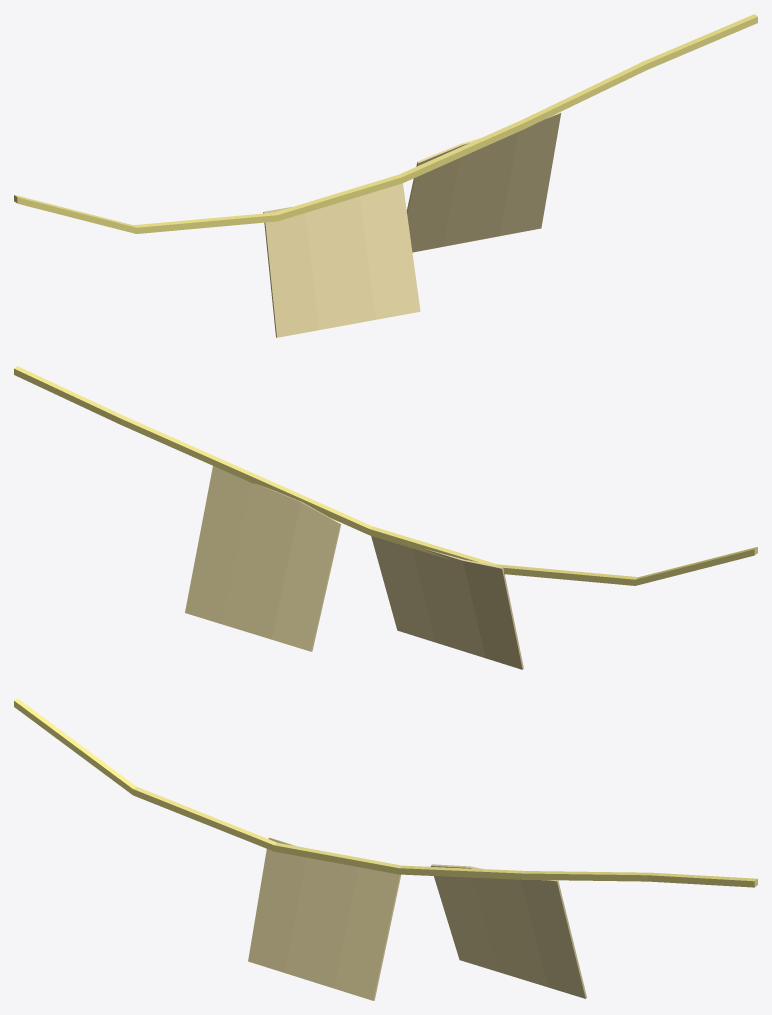
The model's file is Washing frame.fbx.
3 renders of one model, top to bottom at view 1: azimuth 30°, elevation 25°; view 2: azimuth 150°, elevation 25°; view 3: azimuth 330°, elevation 25°, orthographic.
Visible parts, largest first — view 1: Washing frame; view 2: Washing frame; view 3: Washing frame.
Part boxes in pixels (box(x1,y1,x2,y2)): Washing frame: box(14, 14, 757, 337); Washing frame: box(14, 366, 757, 669); Washing frame: box(14, 698, 757, 1000).
Size of the model in its own units: 177 by 43.87 by 22.88.
